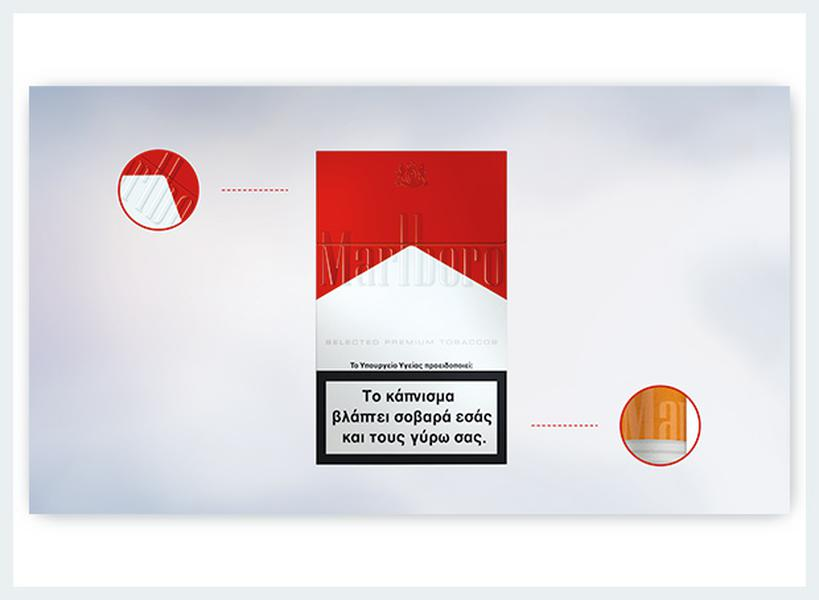marlboro_red: (314, 152, 508, 465)
